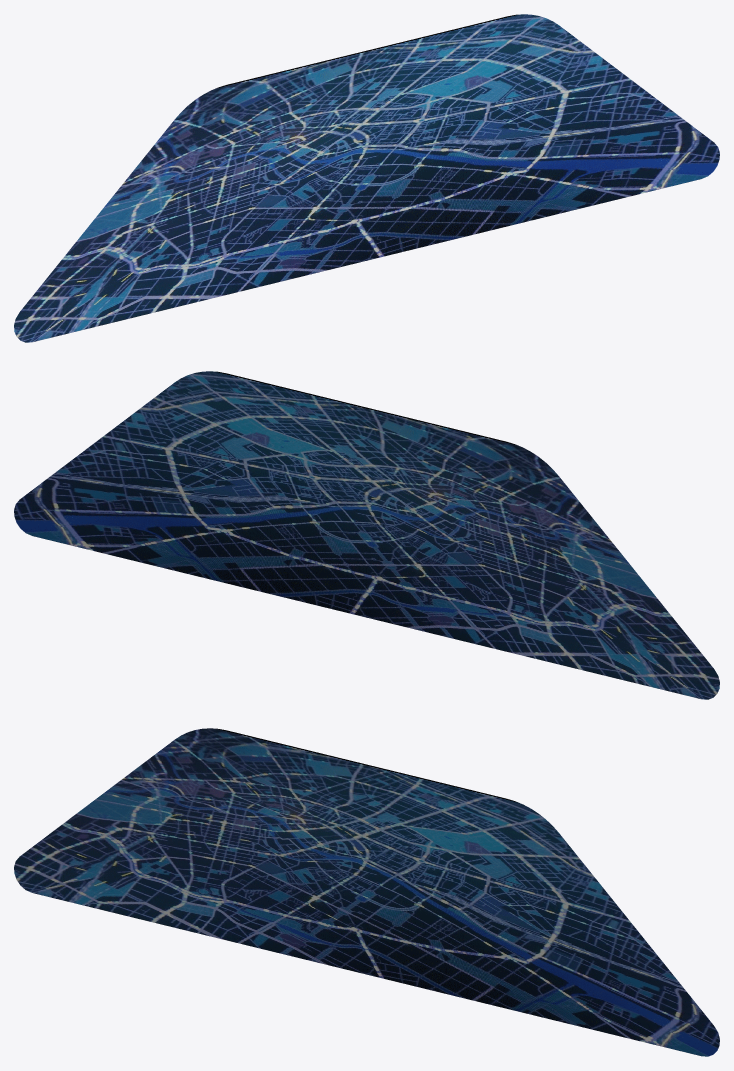
The model's file is EC_DisplayWallPanel04_Screen.FBX.
The picture shows the model from 3 angles, top to bottom: view 1: azimuth 30°, elevation 25°; view 2: azimuth 150°, elevation 25°; view 3: azimuth 330°, elevation 25°; orthographic projection.
Visible parts, largest first — view 1: EC_DisplayWallPanel04_Screen; view 2: EC_DisplayWallPanel04_Screen; view 3: EC_DisplayWallPanel04_Screen.
Part boxes in pixels (x1,y1,x2,y2): EC_DisplayWallPanel04_Screen: (14, 14, 719, 342); EC_DisplayWallPanel04_Screen: (14, 371, 719, 699); EC_DisplayWallPanel04_Screen: (14, 728, 719, 1056).
Bounding box in the file's own units: 3774 × 1073 × 4.69e-05.
